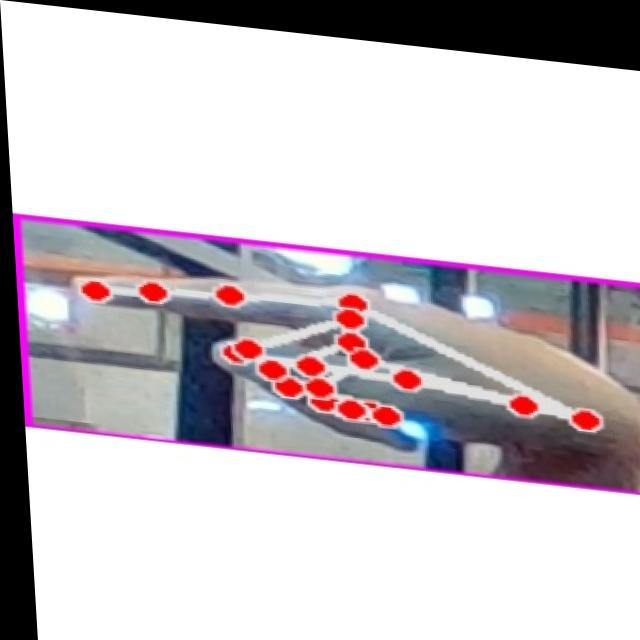G: (54, 231, 640, 464)
